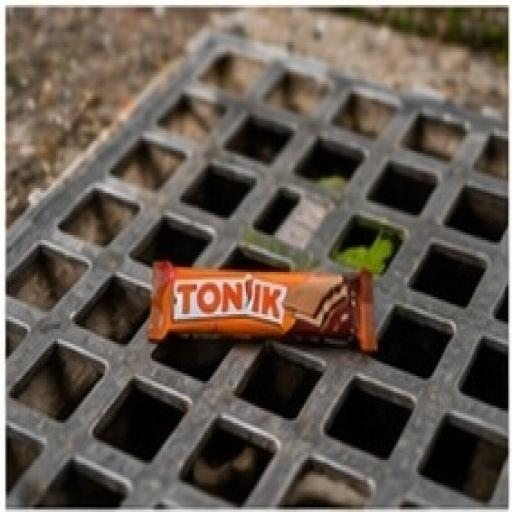tonik: (83, 142, 404, 406)
